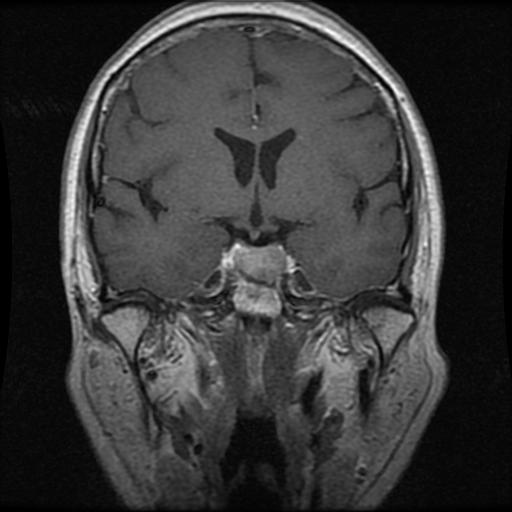Pituirity_tumour: (218, 240, 297, 284)
